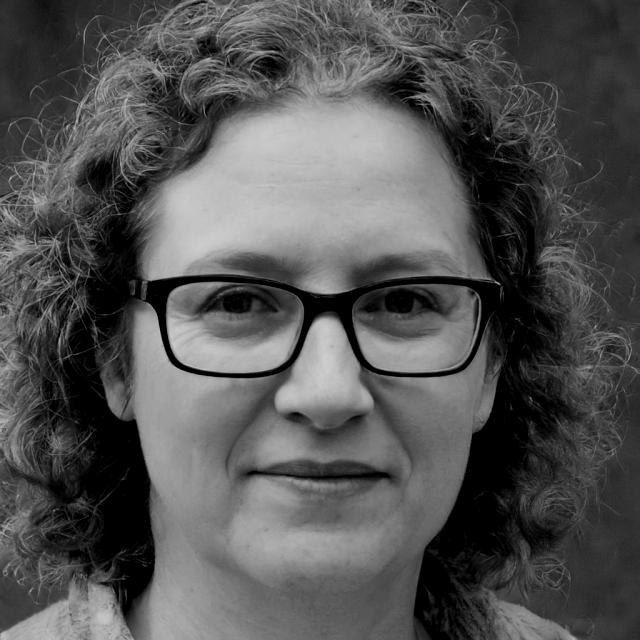lens: (166, 282, 304, 374), (352, 284, 482, 373)
